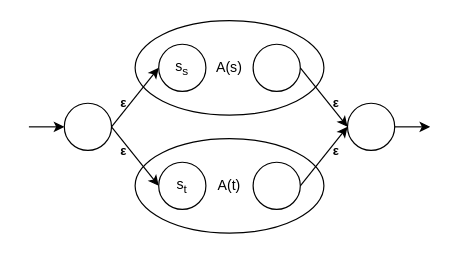
Image size: 450x254. Some labels were removed from this diagram. Here are the shapes that lost their labels. From the top down, the box of each, then its label:
(252, 43, 300, 91): e s
(252, 161, 300, 209): e t
